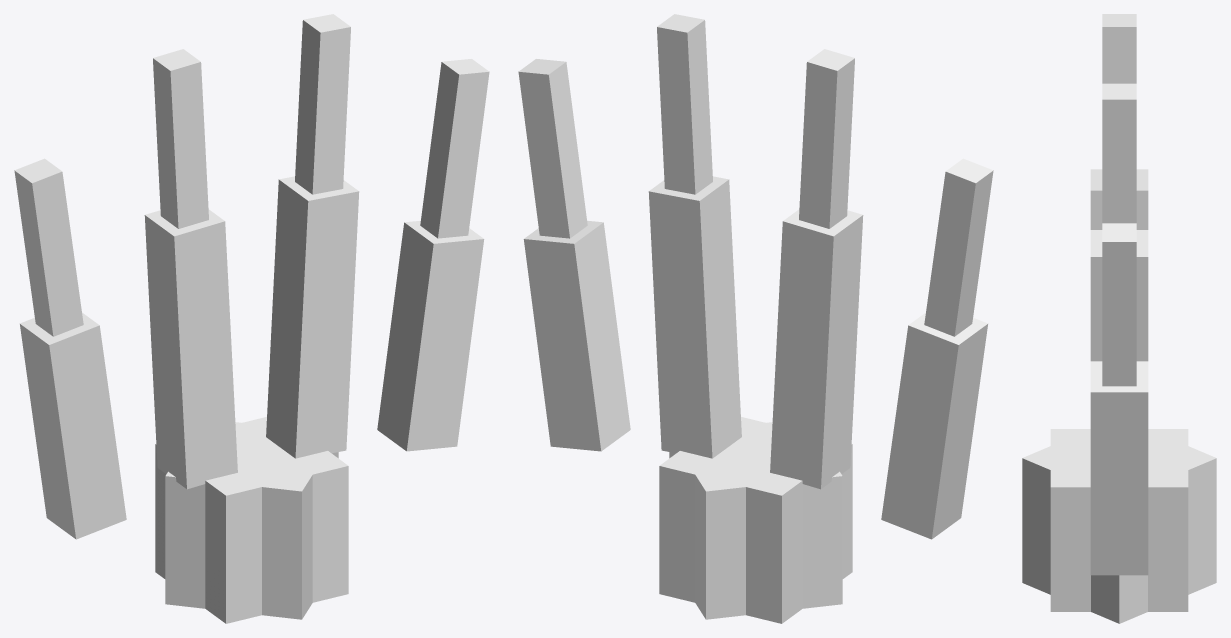
The model's file is fork_energy.gltf.
The picture shows the model from 3 angles, left to right: view 1: azimuth 30°, elevation 25°; view 2: azimuth 150°, elevation 25°; view 3: azimuth 270°, elevation 25°; orthographic projection. The views are drawn at different scales.
Parts seen in each view (by area): view 1: prong_c_base, prong_b_base, prong_d_base, prong_a_base, core_b, core_a, prong_d_tip, prong_c_tip, prong_b_tip, prong_a_tip; view 2: prong_c_base, prong_b_base, prong_d_base, prong_a_base, core_a, core_b, prong_d_tip, prong_c_tip, prong_b_tip, prong_a_tip; view 3: core_a, prong_d_base, core_b, prong_d_tip, prong_c_tip, prong_c_base, prong_b_tip, prong_b_base.
Part boxes in pixels (x1,y1,x2,y2): prong_c_base: (266, 176, 359, 458); prong_b_base: (144, 209, 237, 489); prong_d_base: (377, 220, 484, 451); prong_a_base: (20, 312, 126, 539); core_b: (165, 422, 338, 619); core_a: (155, 417, 348, 623); prong_d_tip: (420, 59, 489, 238); prong_c_tip: (295, 14, 350, 194); prong_b_tip: (153, 49, 208, 228); prong_a_tip: (14, 158, 83, 336); prong_c_base: (648, 176, 741, 458); prong_b_base: (770, 209, 863, 489); prong_d_base: (523, 220, 630, 451); prong_a_base: (881, 312, 987, 539); core_a: (659, 417, 852, 623); core_b: (669, 422, 842, 619); prong_d_tip: (518, 59, 587, 238); prong_c_tip: (657, 14, 712, 194); prong_b_tip: (799, 49, 854, 228); prong_a_tip: (924, 158, 993, 336); core_a: (1050, 429, 1188, 611); prong_d_base: (1090, 361, 1148, 575); core_b: (1022, 445, 1216, 623); prong_d_tip: (1102, 223, 1136, 386); prong_c_tip: (1102, 83, 1136, 223); prong_c_base: (1090, 230, 1148, 361); prong_b_tip: (1102, 14, 1136, 83); prong_b_base: (1090, 169, 1148, 229).
Size of the model in its own units: 0.56 by 0.6344 by 0.2121.
Materials: 1 (1 with a texture image).
